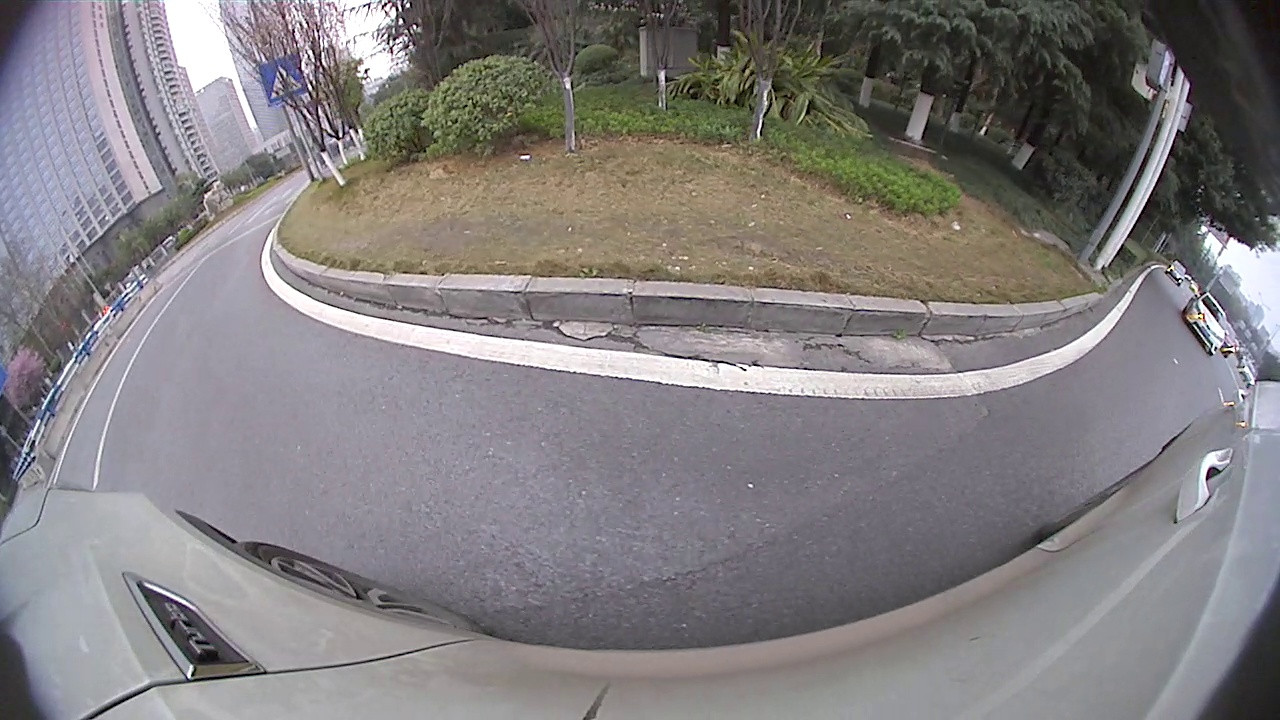bus: (775, 128, 975, 225)
car: (1002, 173, 1255, 363), (563, 116, 749, 246), (395, 150, 533, 234), (750, 146, 868, 225), (1211, 365, 1278, 446), (1217, 313, 1279, 382), (973, 210, 1021, 241)
front: (1009, 233, 1040, 269), (517, 182, 530, 211), (975, 221, 993, 241)
rear: (1165, 315, 1203, 359), (477, 186, 497, 224), (1217, 354, 1245, 380), (769, 186, 784, 218)
